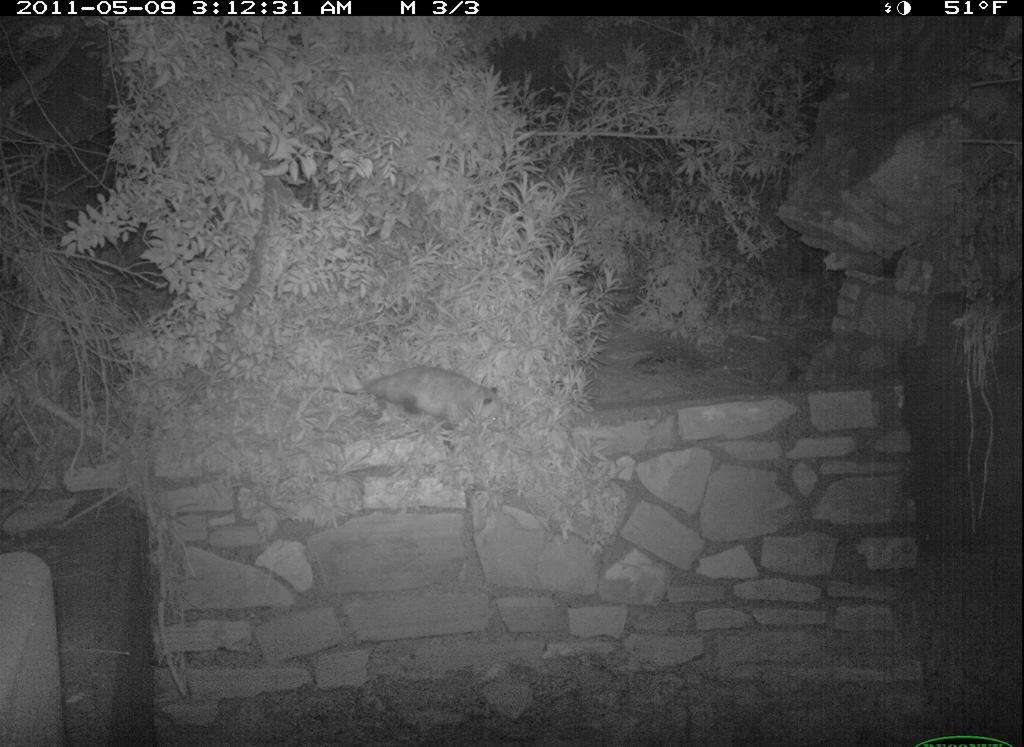opossum: (314, 359, 515, 433)
